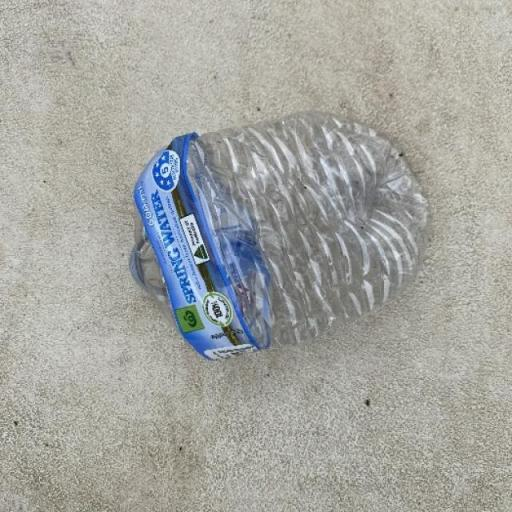plastic: (128, 108, 431, 362)
